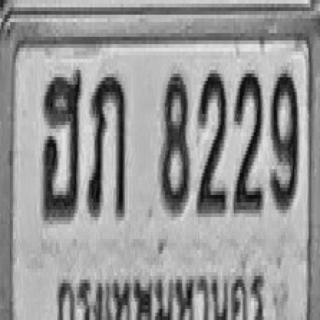A32: (87, 74, 126, 217)
A44: (42, 70, 82, 221)
N02: (232, 70, 263, 213), (196, 70, 226, 213)
N08: (159, 70, 189, 213)
N09: (270, 70, 299, 210)
